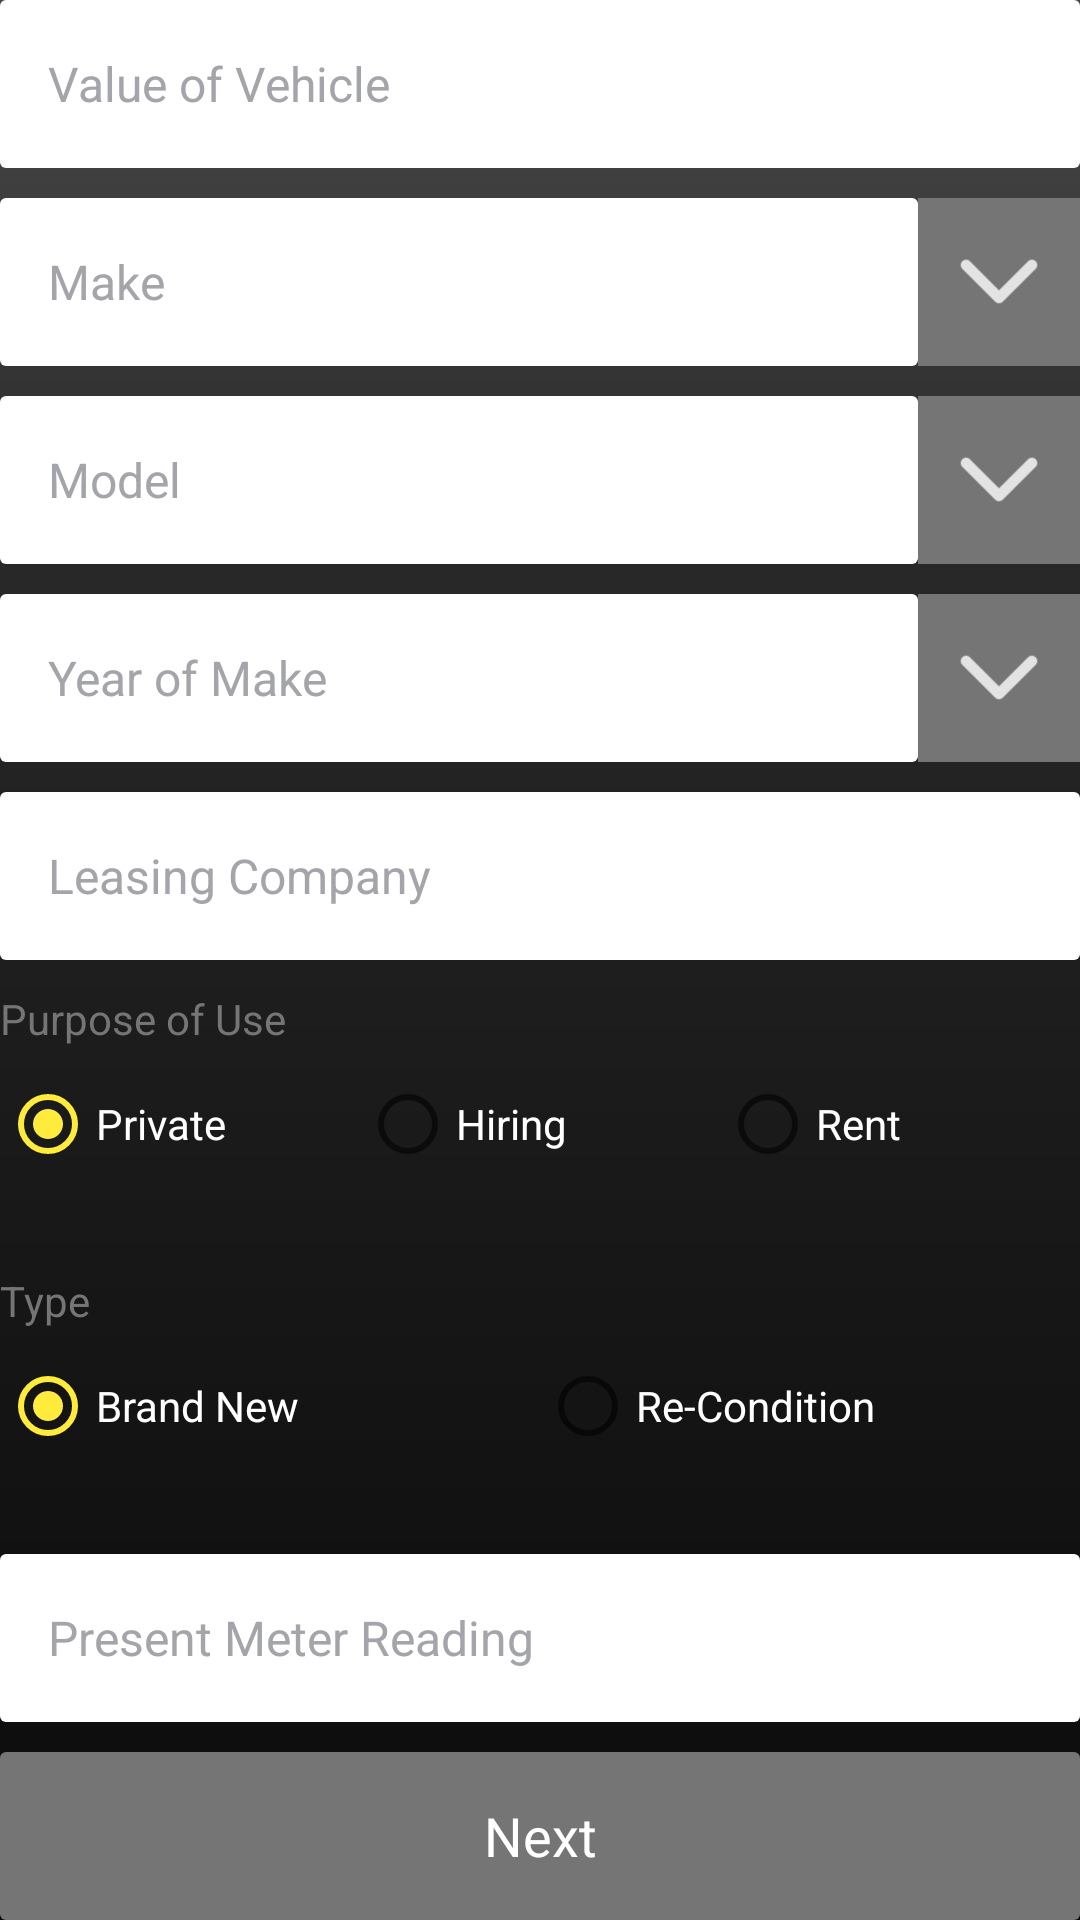

Named icons in this screenshot (1080px x 1920px) and their centers, [x,y]:
down: [999,282], [999,480], [999,678]
